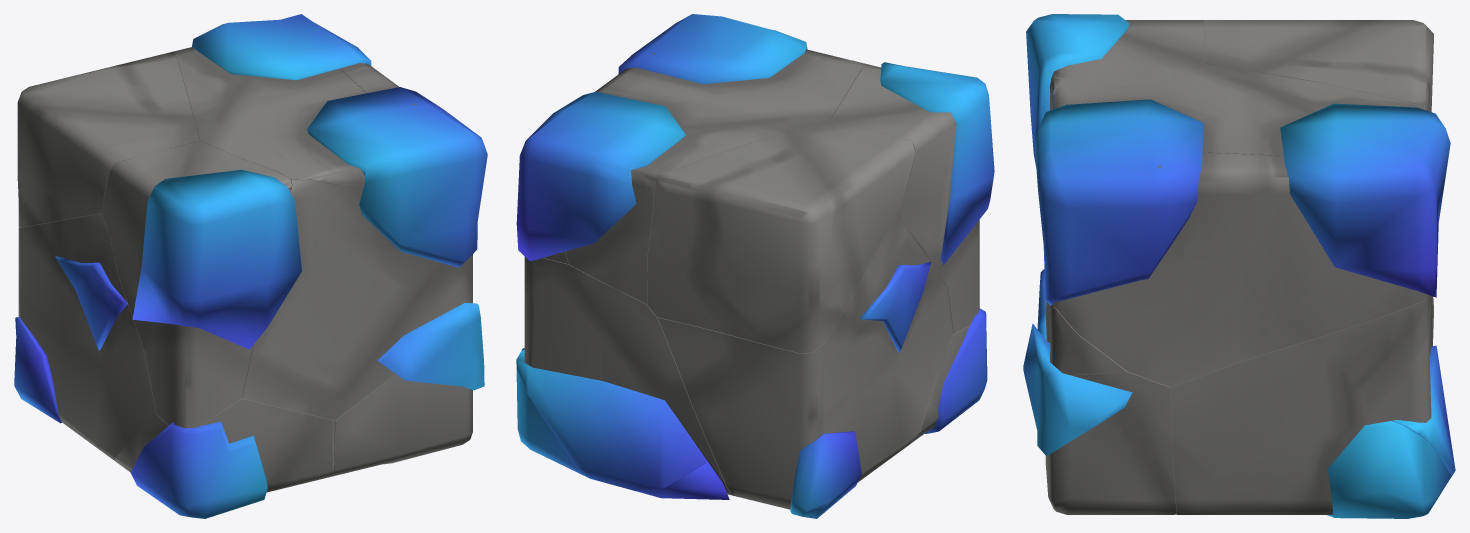
Rendered from Sapphire.fbx.
3 renders of one model, left to right at view 1: azimuth 30°, elevation 25°; view 2: azimuth 150°, elevation 25°; view 3: azimuth 270°, elevation 25°, orthographic. The views are drawn at different scales.
Visible parts, largest first — view 1: Cube_Parts.050, Ore.056, Cube_Parts.052, Ore.055, Cube_Parts.056, Cube_Parts.053, Cube_Parts.057, Ore.052, Cube_Parts.058, Cube_Parts.055, Cube_Parts.051, Ore.047 (+4 smaller); view 2: Cube_Parts.052, Cube_Parts.056, Cube_Parts.053, Ore.047, Cube_Parts.059, Ore.058, Cube_Parts.055, Ore.056, Ore.055, Ore.054, Ore.052, Ore.050 (+5 smaller); view 3: Cube_Parts.054, Cube_Parts.059, Ore.055, Ore.047, Cube_Parts.053, Cube_Parts.052, Cube_Parts.057, Ore.057, Ore.062, Ore.056, Cube_Parts.055, Cube_Parts.050 (+1 smaller).
Boxes of the visible parts, left/top/right/bottom form: Cube_Parts.050: left=242, top=179, right=472, bottom=420; Ore.056: left=132, top=169, right=301, bottom=349; Cube_Parts.052: left=17, top=51, right=199, bottom=227; Ore.055: left=307, top=87, right=487, bottom=267; Cube_Parts.056: left=18, top=213, right=155, bottom=459; Cube_Parts.053: left=175, top=47, right=365, bottom=189; Cube_Parts.057: left=330, top=374, right=472, bottom=476; Ore.052: left=130, top=421, right=267, bottom=518; Cube_Parts.058: left=145, top=188, right=290, bottom=428; Cube_Parts.055: left=101, top=141, right=291, bottom=353; Cube_Parts.051: left=114, top=398, right=334, bottom=492; Ore.047: left=192, top=14, right=371, bottom=80; Cube_Parts.052: left=647, top=119, right=915, bottom=353; Cube_Parts.056: left=657, top=215, right=953, bottom=509; Cube_Parts.053: left=566, top=49, right=863, bottom=303; Ore.047: left=516, top=91, right=685, bottom=261; Cube_Parts.059: left=524, top=257, right=732, bottom=495; Ore.058: left=516, top=350, right=705, bottom=490; Cube_Parts.055: left=830, top=65, right=956, bottom=286; Ore.056: left=880, top=62, right=994, bottom=265; Ore.055: left=618, top=14, right=807, bottom=84; Ore.054: left=790, top=431, right=861, bottom=518; Ore.052: left=925, top=308, right=987, bottom=433; Ore.050: left=860, top=261, right=931, bottom=352; Cube_Parts.054: left=1053, top=152, right=1427, bottom=386; Cube_Parts.059: left=1170, top=295, right=1432, bottom=514; Ore.055: left=1034, top=99, right=1203, bottom=305; Ore.047: left=1280, top=103, right=1450, bottom=297; Cube_Parts.053: left=1052, top=63, right=1426, bottom=155; Cube_Parts.052: left=1203, top=20, right=1433, bottom=111; Cube_Parts.057: left=1045, top=372, right=1176, bottom=514; Ore.057: left=1327, top=421, right=1451, bottom=518; Ore.062: left=1023, top=323, right=1132, bottom=456; Ore.056: left=1026, top=14, right=1129, bottom=167; Cube_Parts.055: left=1052, top=20, right=1204, bottom=79; Cube_Parts.050: left=1046, top=78, right=1127, bottom=374.
Size of the model in its own units: 216 by 218 by 226.
